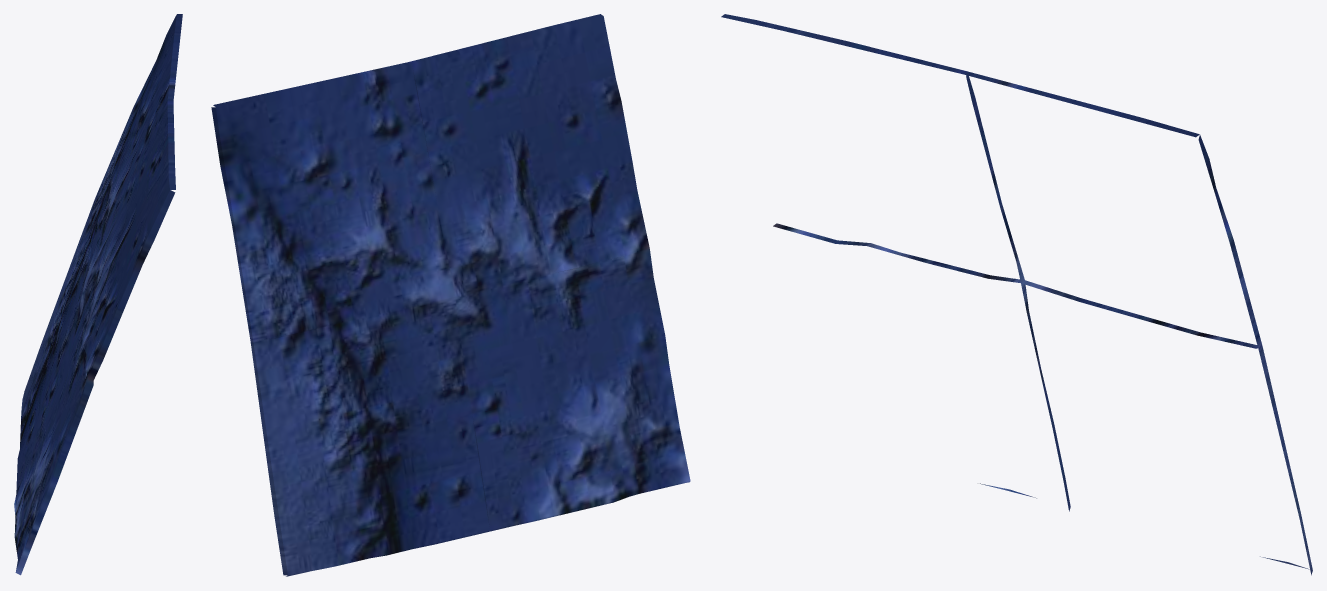
3 renders of one model, left to right at view 1: azimuth 30°, elevation 25°; view 2: azimuth 150°, elevation 25°; view 3: azimuth 270°, elevation 25°, orthographic. The views are drawn at different scales.
Size of the model in its own units: 495655 by 595464 by 621769.
1 material, 1 textured.
